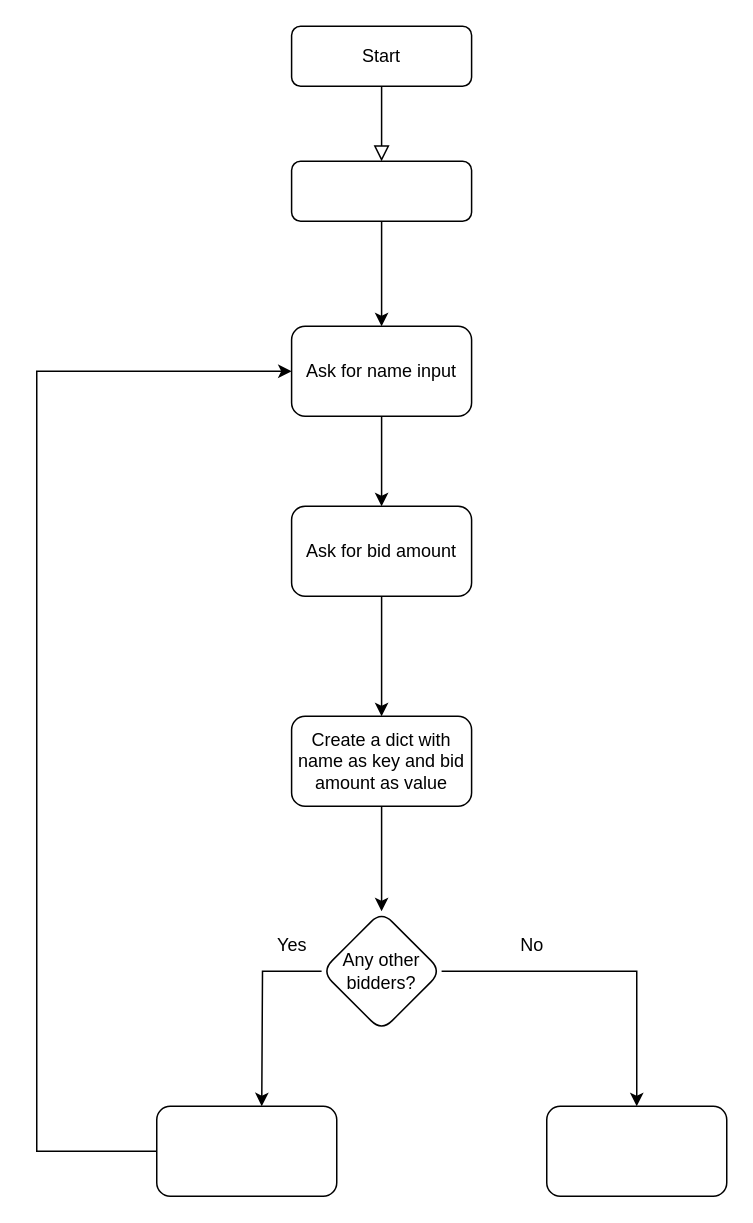
The diagram is 753 pixels wide and 1223 high, and some of its shapes have lost their labels. The centre of each missing label's shape, as x and y in pixels:
Clear the screen: point (246, 1150)
Find the highest bidder from the dictionary and declare the winner: point (636, 1150)
Show logo from art.py: point (381, 190)
